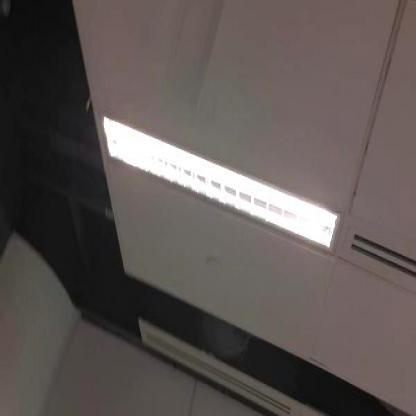light_on: (92, 108, 339, 254)
